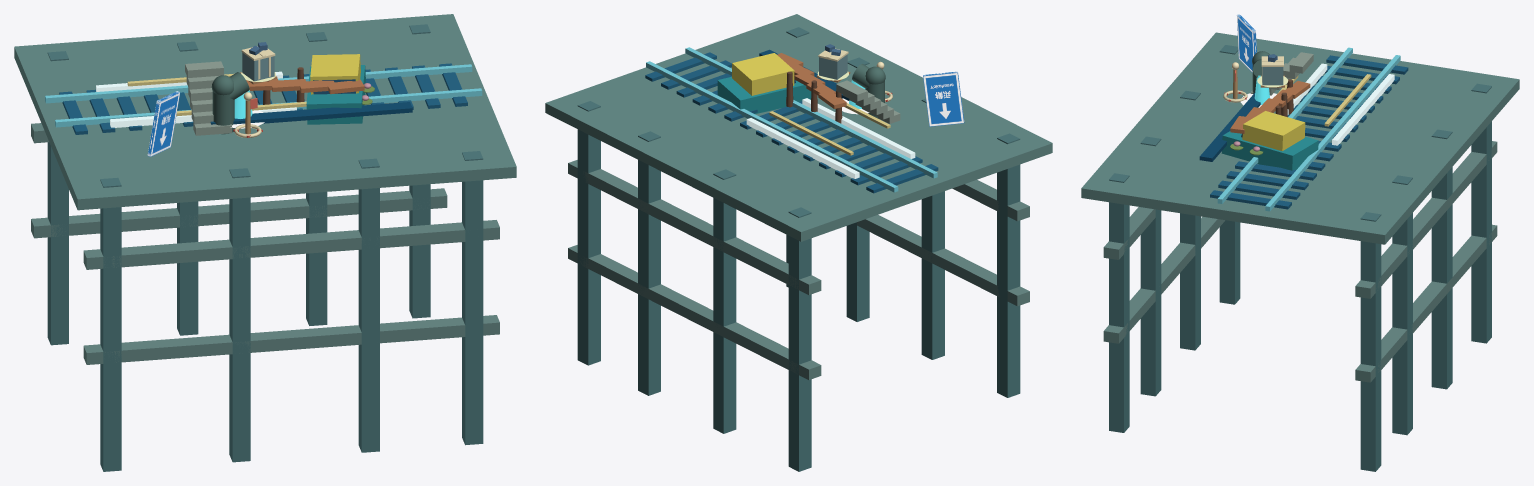
File: unit_01.glb
3 renders of one model, left to right at view 1: azimuth 30°, elevation 25°; view 2: azimuth 150°, elevation 25°; view 3: azimuth 270°, elevation 25°, orthographic. The views are drawn at different scales.
Visible parts, largest first — view 1: unit_01; view 2: unit_01; view 3: unit_01.
Part boxes in pixels (<box>): unit_01: <box>14,14,516,471</box>; unit_01: <box>545,14,1052,471</box>; unit_01: <box>1081,14,1519,471</box>.
Size of the model in its own units: 20.77 by 15.27 by 18.98.
Materials: 6 (1 with a texture image).
